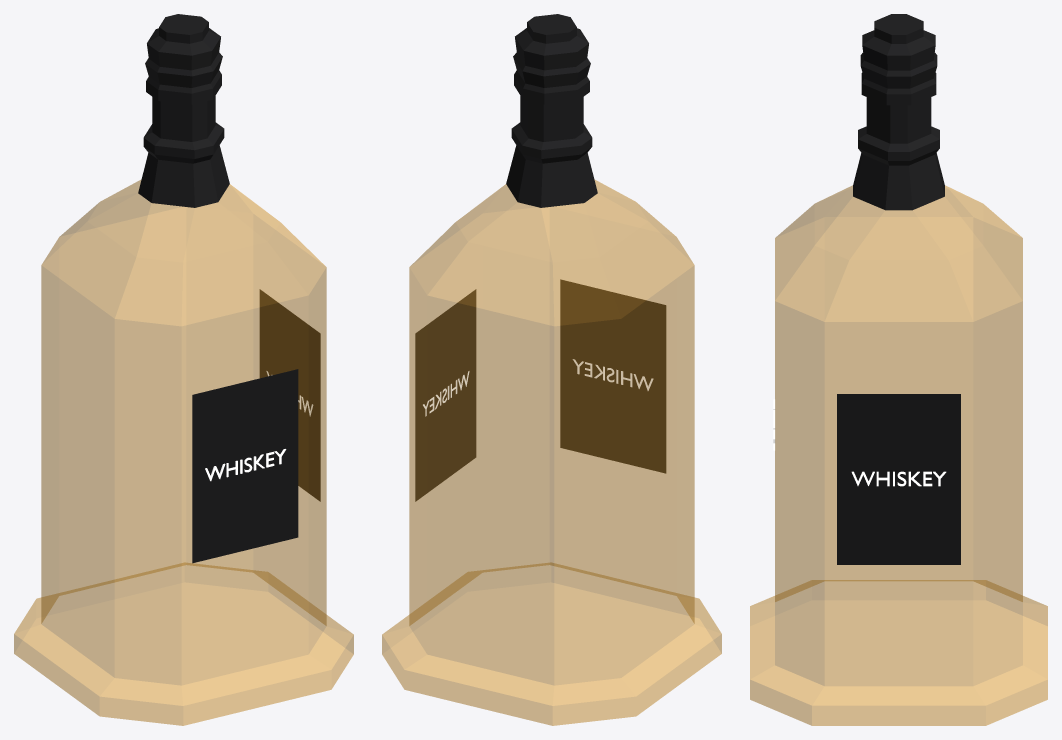
Rendered from whiskey_bottle.glb.
3 renders of one model, left to right at view 1: azimuth 30°, elevation 25°; view 2: azimuth 150°, elevation 25°; view 3: azimuth 270°, elevation 25°, orthographic.
Parts seen in each view (by area): view 1: Whiskey_Bottle; view 2: Whiskey_Bottle; view 3: Whiskey_Bottle.
Part boxes in pixels (x1,y1,x2,y2): Whiskey_Bottle: (14,14,353,725); Whiskey_Bottle: (382,14,721,725); Whiskey_Bottle: (750,14,1047,725).
Bounding box in the file's own units: 1.2 × 2.84 × 1.2.
